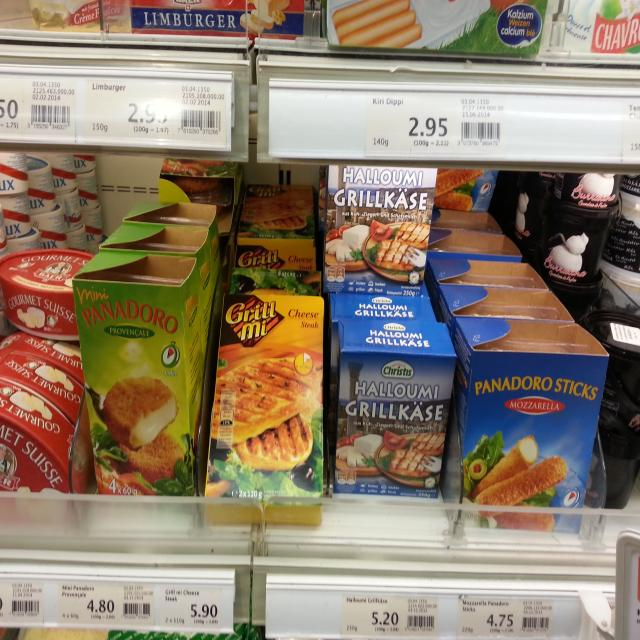Cheese: (451, 314, 608, 536), (60, 249, 201, 494), (201, 290, 324, 524), (326, 310, 456, 500), (327, 160, 439, 288), (2, 246, 112, 339), (0, 378, 89, 492)
